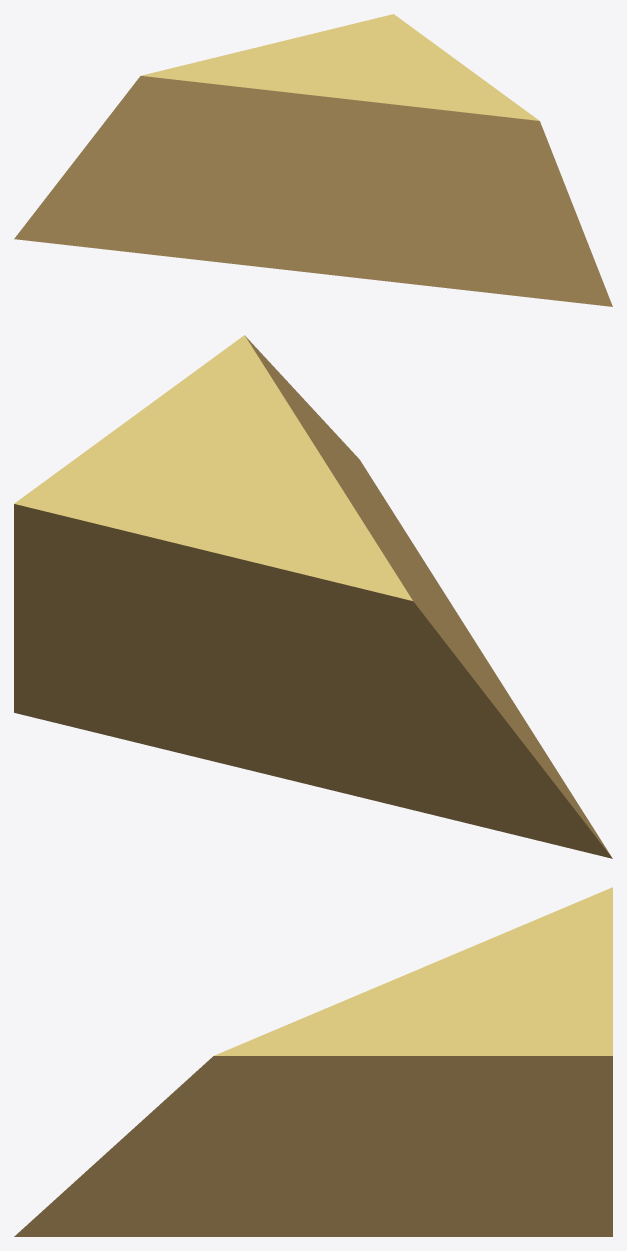
The model's file is Terrain_Tile_Sand_Ledge_Corner_02.fbx.
3 renders of one model, top to bottom at view 1: azimuth 30°, elevation 25°; view 2: azimuth 150°, elevation 25°; view 3: azimuth 270°, elevation 25°, orthographic. The views are drawn at different scales.
Parts seen in each view (by area): view 1: Terrain_Tile_Sand_Ledge_Corner_02; view 2: Terrain_Tile_Sand_Ledge_Corner_02; view 3: Terrain_Tile_Sand_Ledge_Corner_02.
Boxes of the visible parts, x1,y1,x2,y2 form: Terrain_Tile_Sand_Ledge_Corner_02: [14, 14, 612, 306]; Terrain_Tile_Sand_Ledge_Corner_02: [14, 335, 612, 858]; Terrain_Tile_Sand_Ledge_Corner_02: [14, 887, 612, 1236].
Size of the model in its own units: 47.24 by 15.75 by 47.24.
